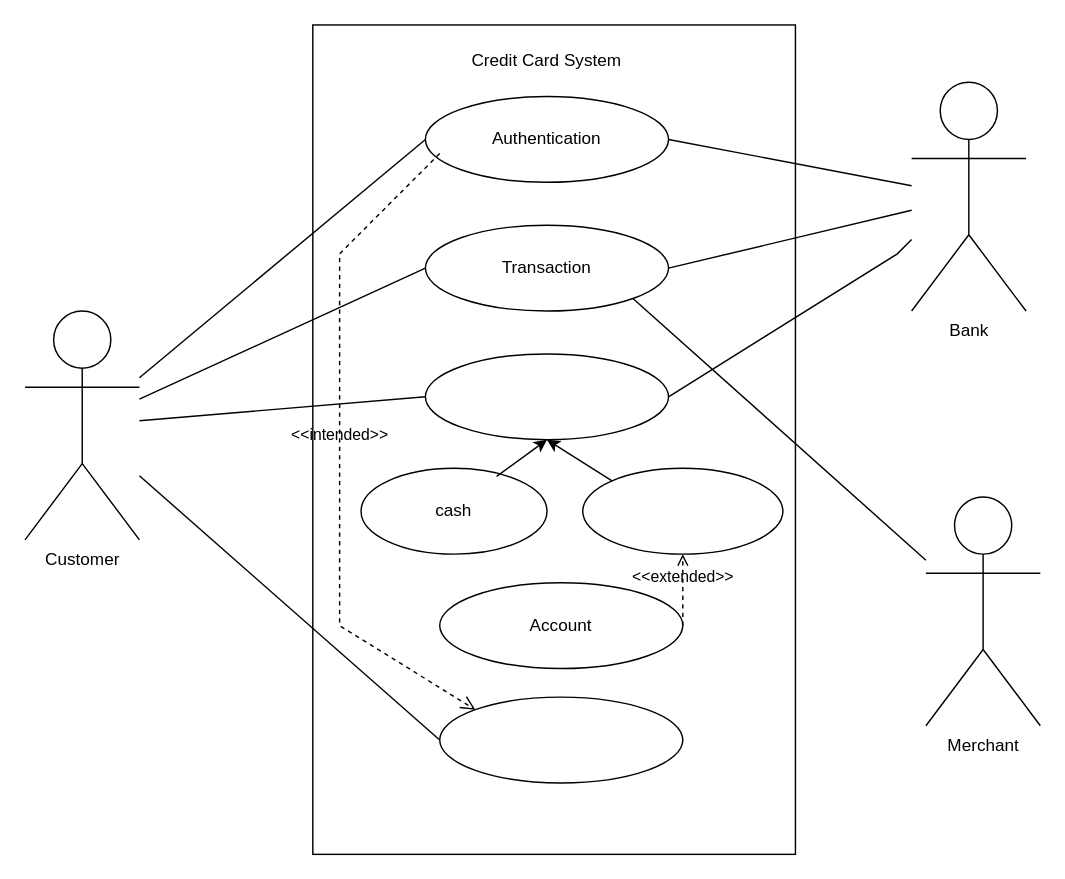
Some shapes in this 1065 by 879 pixel diagram are drawn without their labels. Here are the shapes that lost their labels. From the top down, the box of each, then its label:
(424, 352, 669, 440): Payment
(581, 467, 783, 554): Credit card
(438, 696, 683, 783): Print reciept
